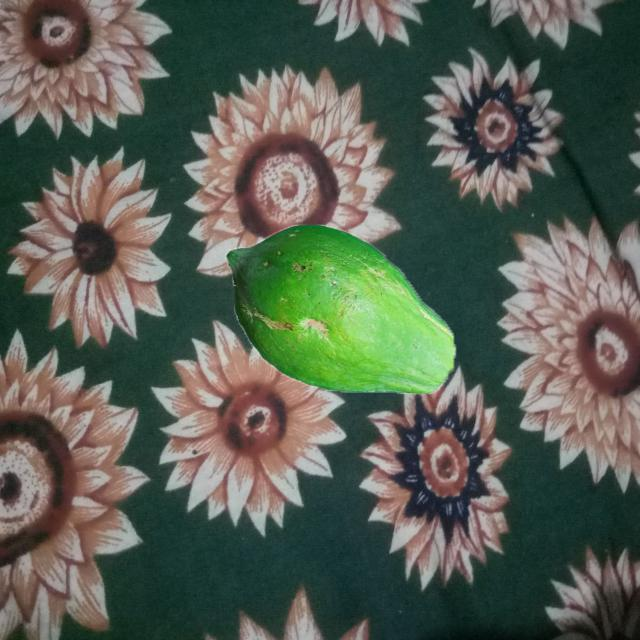Pepaya unrippen: (225, 224, 458, 406)
